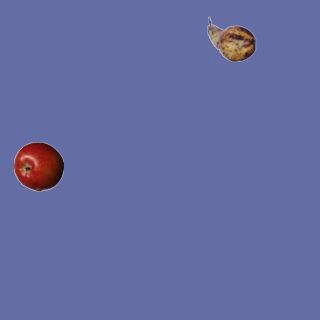Apple Braeburn: (13, 141, 63, 191)
Pear Abate: (206, 14, 256, 64)
